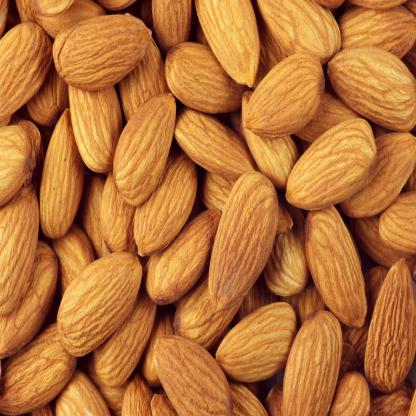almond: (207, 172, 277, 315), (56, 254, 142, 354), (285, 118, 376, 212), (328, 46, 416, 136), (304, 207, 366, 329), (52, 15, 149, 90), (0, 323, 76, 415), (363, 261, 416, 392), (214, 302, 298, 384), (245, 54, 325, 138), (134, 152, 198, 257), (115, 94, 175, 205), (154, 334, 233, 415), (38, 110, 85, 242), (284, 311, 342, 415), (167, 42, 245, 118), (174, 108, 258, 178), (196, 0, 259, 90), (0, 181, 37, 320), (257, 0, 342, 60), (2, 26, 50, 120)
